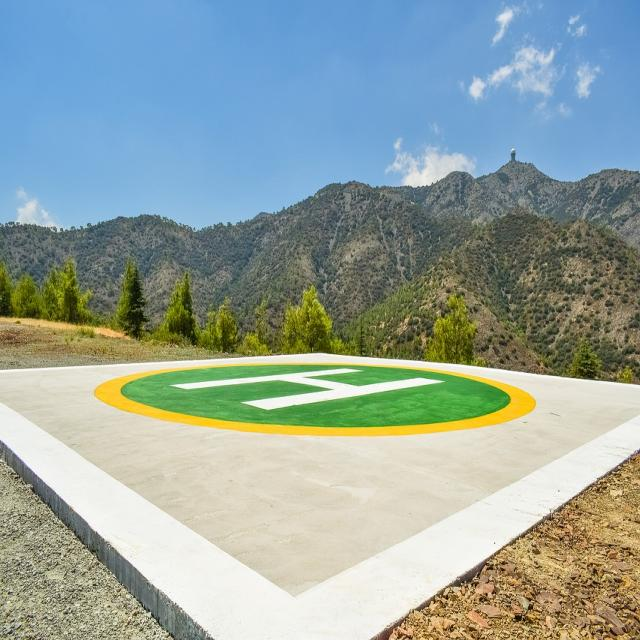helipad: (89, 356, 537, 442)
